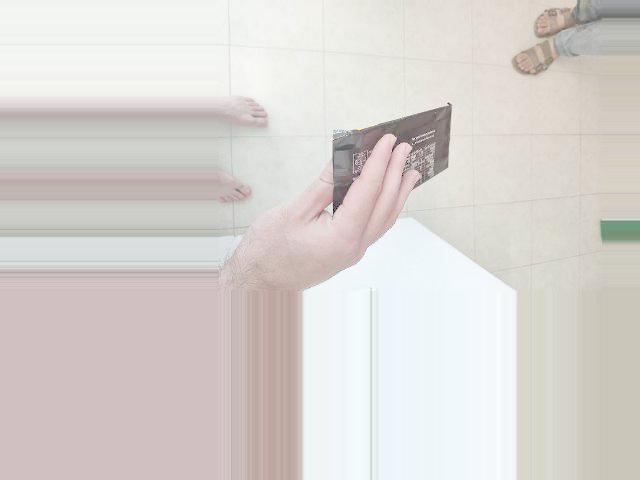chocolate: (328, 101, 461, 234)
